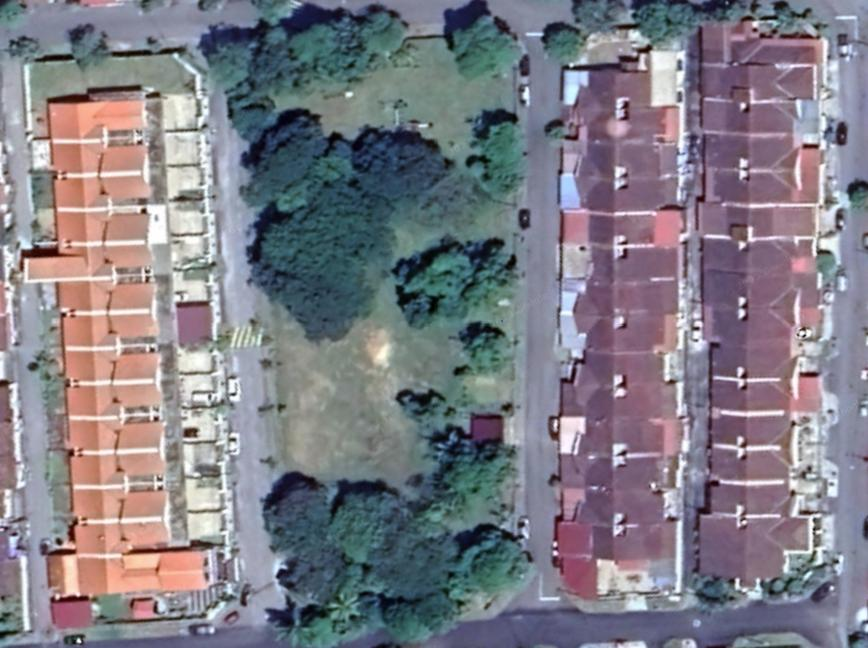building: (697, 513, 811, 593), (24, 212, 151, 281), (558, 520, 678, 593), (46, 551, 204, 597), (566, 47, 678, 108), (64, 349, 160, 419), (67, 483, 169, 548), (54, 143, 151, 211), (67, 418, 164, 485), (58, 282, 158, 346), (699, 21, 821, 69), (47, 94, 146, 143), (559, 382, 676, 422), (575, 415, 682, 456), (572, 274, 677, 315), (561, 452, 665, 489), (697, 95, 797, 133), (579, 106, 679, 144), (574, 314, 676, 351), (701, 269, 794, 309), (566, 348, 669, 384), (573, 139, 676, 175), (702, 234, 793, 274), (586, 211, 681, 249), (561, 484, 664, 519), (698, 63, 798, 98), (701, 131, 793, 169), (706, 408, 793, 448), (574, 176, 679, 209), (708, 376, 798, 414), (706, 307, 796, 345), (705, 168, 793, 204), (709, 480, 796, 516), (704, 203, 794, 237), (586, 246, 678, 279), (709, 446, 791, 481), (712, 344, 796, 377)
